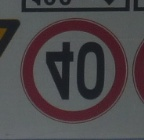Speed limit: (19, 14, 129, 131)
